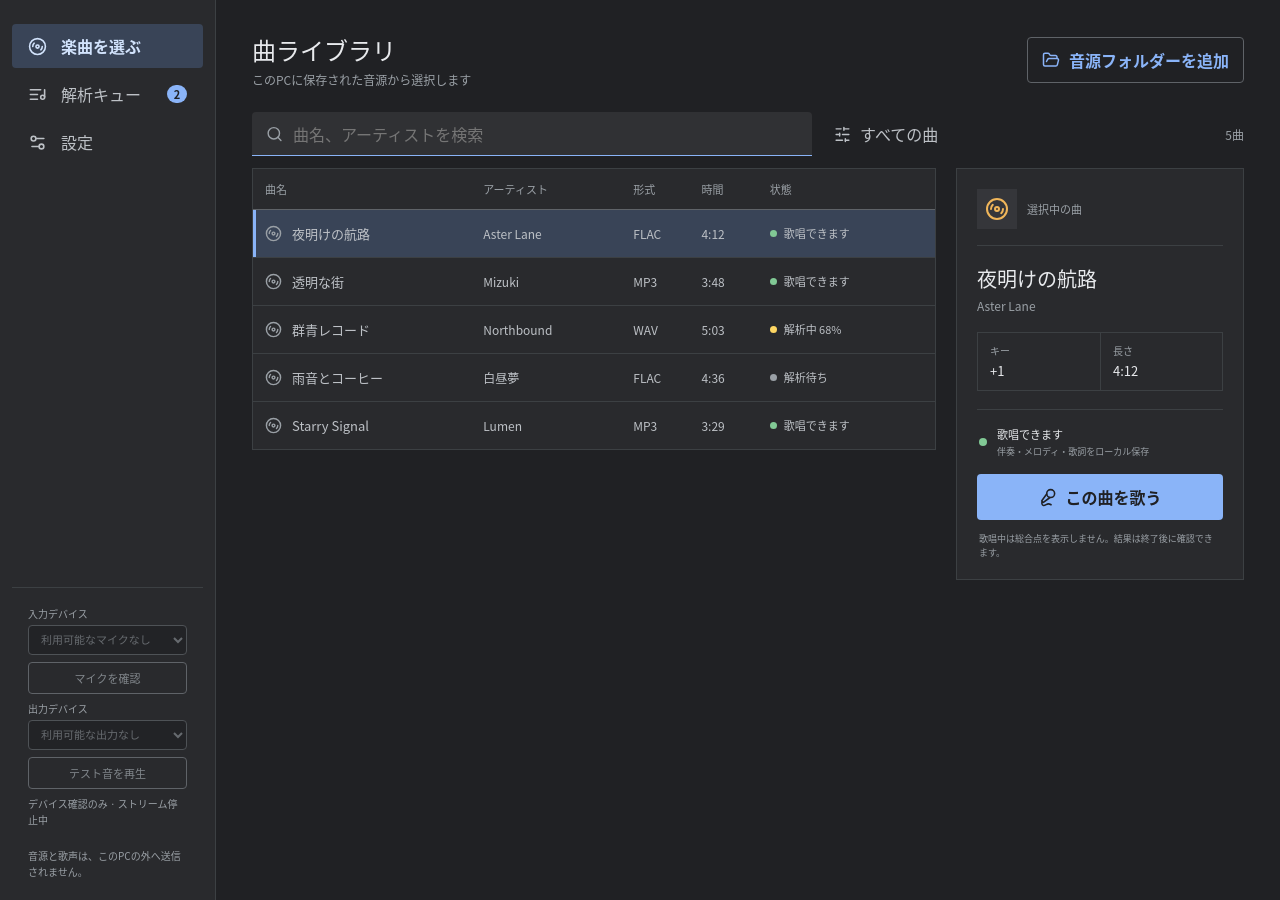
Test: song library › indexes and renders native library metadata after folder selection
Click the button "音源フォルダーを追加" at (1136, 60), box [1027,37,1244,83]
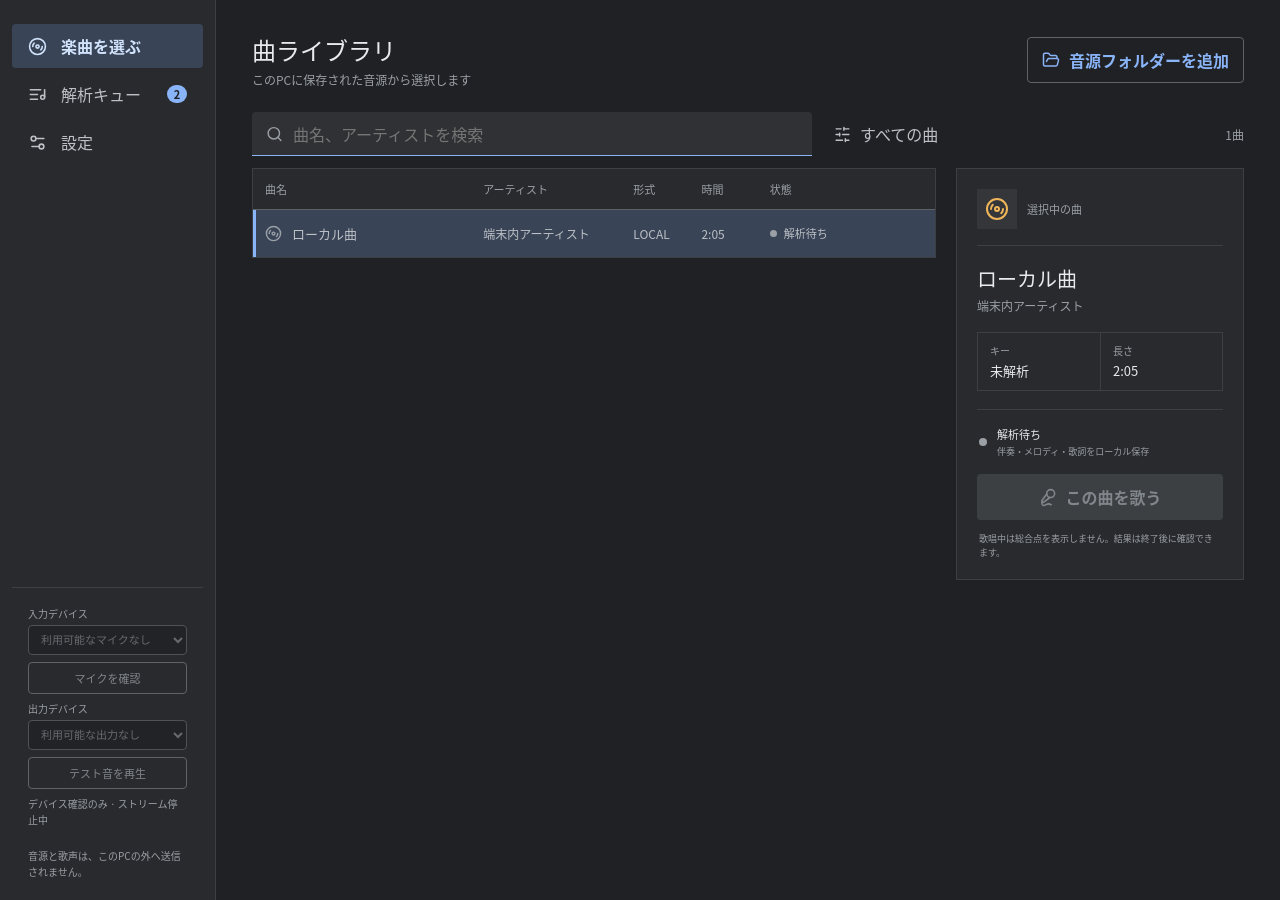
Result: the text "ローカル曲" is shown at [292,224,357,243]
Result: the text "端末内アーティスト" is shown at [471,209,621,257]
Result: the text "2:05" is shown at [690,209,758,257]
